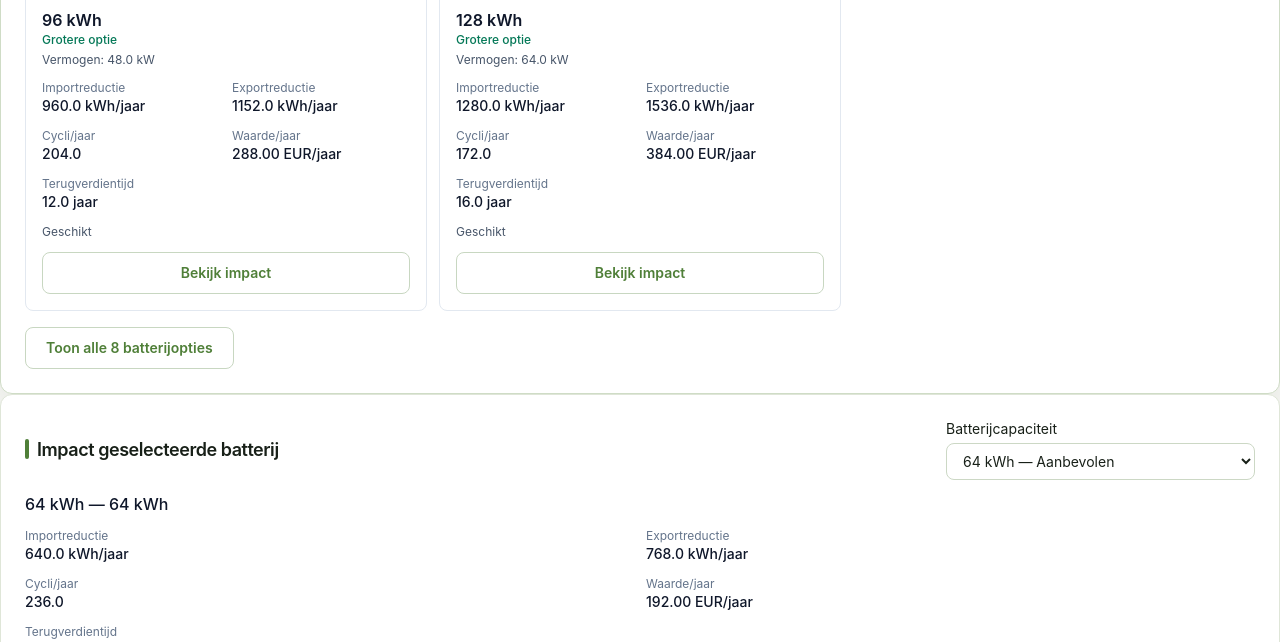
Test: PV scenario comparison › keeps all scenarios available and preserves fractional capacities
The width and height of the screenshot is (1280, 642).
(page scrolled)
Click the button "Toon alle 8 batterijopties" at (129, 348), box [25, 327, 234, 369]
(page scrolled)
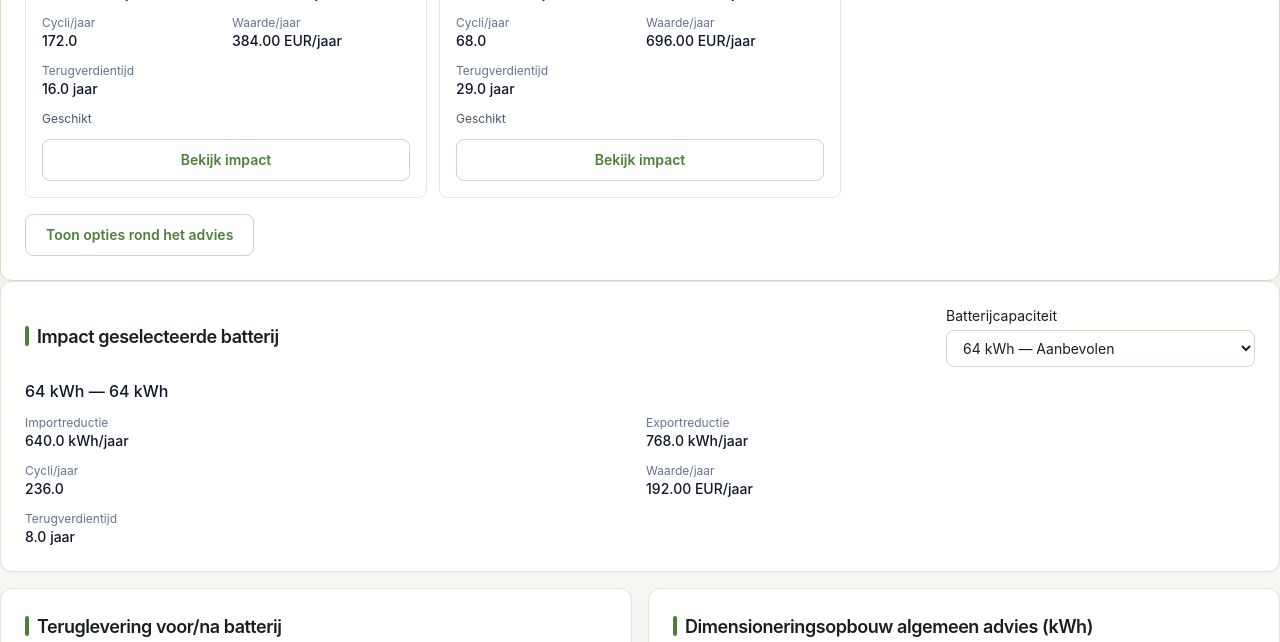
Select "10.24 kWh" in the dropdown at (1101, 348), box [946, 330, 1255, 367]
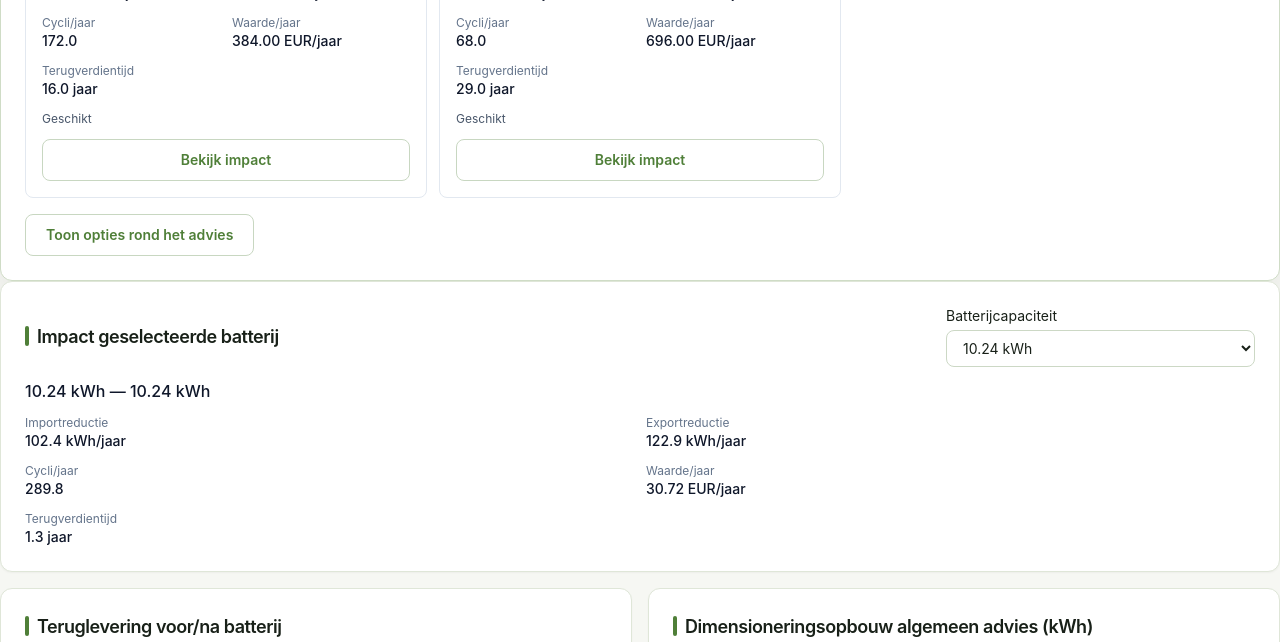
expect the text "102.4 kWh/jaar" is shown: met, box [25, 432, 126, 449]
